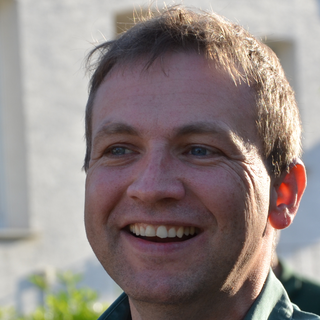eye: (177, 141, 224, 164), (99, 140, 143, 164)
